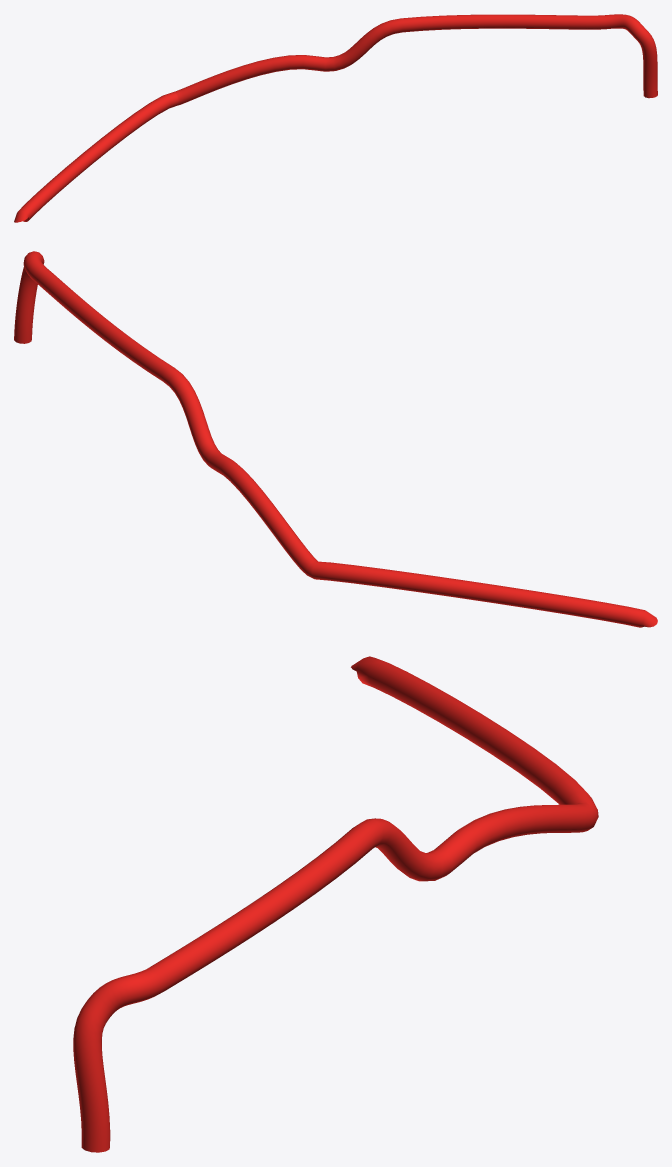
File: Big-kabel1.fbx
3 renders of one model, top to bottom at view 1: azimuth 30°, elevation 25°; view 2: azimuth 150°, elevation 25°; view 3: azimuth 270°, elevation 25°, orthographic. The views are drawn at different scales.
Parts seen in each view (by area): view 1: Big-kabel1; view 2: Big-kabel1; view 3: Big-kabel1.
Part boxes in pixels (x1=…): Big-kabel1: x1=14, y1=14, x2=657, y2=222; Big-kabel1: x1=14, y1=251, x2=657, y2=627; Big-kabel1: x1=73, y1=656, x2=598, y2=1152.
Bounding box in the file's own units: 91.56 × 17.99 × 36.21.
